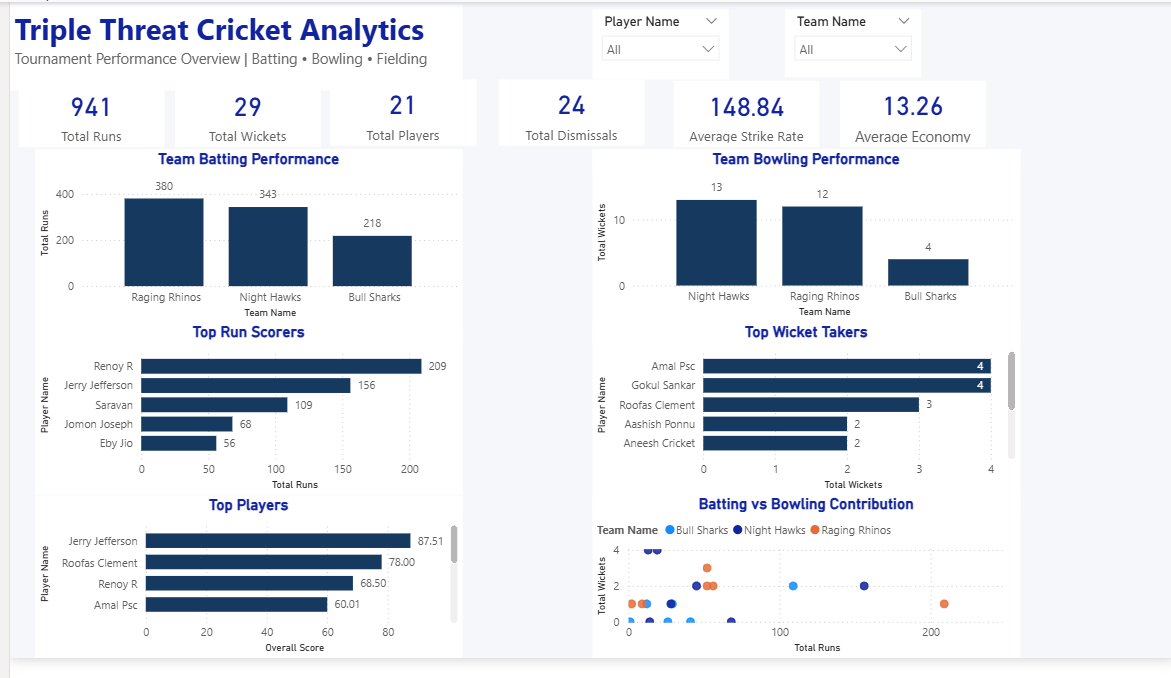

Layout of this report page (visuals, bound fields, positions):
{"tool":"powerbi","page":{"name":"Page 1","canvas":[1280,720],"ordinal":0},"visuals":[{"type":"card","fields":{"Values":["player_performance.Total Runs"]},"box":[9.6,86.4,160,72.7],"z":0},{"type":"card","fields":{"Values":["player_performance.Total Wickets"]},"box":[181.1,86.4,160,72.7],"z":1000},{"type":"card","fields":{"Values":["player_performance.Total Players"]},"box":[351.3,85.1,160.5,72.7],"z":2000},{"type":"card","fields":{"Values":["player_performance.Total Dismissals"]},"box":[536.5,85.1,160,72.7],"z":3000},{"type":"card","fields":{"Values":["player_performance.Average Strike Rate"]},"box":[728.6,86.4,160,72.7],"z":4000},{"type":"card","fields":{"Values":["player_performance.Average Economy"]},"box":[911.2,86.4,160,72.7],"z":5000},{"type":"clusteredColumnChart","title":"Team Batting Performance","fields":{"Category":["player_performance.Team Name"],"Y":["player_performance.Total Runs"]},"box":[27.4,161.9,469.3,190],"z":6000},{"type":"clusteredColumnChart","title":"Team Bowling Performance","fields":{"Category":["player_performance.Team Name"],"Y":["player_performance.Total Wickets"]},"box":[639.5,161.9,469.3,189.4],"z":7000},{"type":"clusteredBarChart","title":"Top Run Scorers","fields":{"Category":["player_performance.Player Name"],"Y":["player_performance.Total Runs"]},"box":[27.4,351.3,469.3,189.4],"z":8000},{"type":"clusteredBarChart","title":"Top Wicket Takers","fields":{"Category":["player_performance.Player Name"],"Y":["player_performance.Total Wickets"]},"box":[639.5,351.3,469.3,189.4],"z":9000},{"type":"clusteredBarChart","title":"Top Players","fields":{"Category":["player_performance.Player Name"],"Y":["Sum(player_performance.Overall_Score)"]},"box":[27.4,542,469.3,178.4],"z":10000},{"type":"slicer","fields":{"Values":["player_performance.Team Name"]},"box":[850.8,8.2,149.6,74.1],"z":11000},{"type":"slicer","fields":{"Values":["player_performance.Player Name"]},"box":[639.5,8.2,149.6,76.8],"z":12000},{"type":"scatterChart","title":"Batting vs Bowling Contribution","fields":{"X":["player_performance.Total Runs"],"Y":["player_performance.Total Wickets"],"Series":["player_performance.Team Name"],"Category":["player_performance.Player Name"]},"box":[639.5,540.7,469.3,179.8],"z":13000},{"type":"textbox","box":[0,2.7,496.7,94.7],"z":14000}]}

Visuals, with their boxes in screenshot pixels (x1, y1, x2, y2), scaled from the page's 1280x720 canvas onto the 1171x678 screenshot:
card - player_performance.Total Runs: bbox=[9, 81, 155, 150]
card - player_performance.Total Wickets: bbox=[166, 81, 312, 150]
card - player_performance.Total Players: bbox=[321, 80, 468, 149]
card - player_performance.Total Dismissals: bbox=[491, 80, 637, 149]
card - player_performance.Average Strike Rate: bbox=[667, 81, 813, 150]
card - player_performance.Average Economy: bbox=[834, 81, 980, 150]
"Team Batting Performance" clusteredColumnChart: bbox=[25, 152, 454, 331]
"Team Bowling Performance" clusteredColumnChart: bbox=[585, 152, 1014, 331]
"Top Run Scorers" clusteredBarChart: bbox=[25, 331, 454, 509]
"Top Wicket Takers" clusteredBarChart: bbox=[585, 331, 1014, 509]
"Top Players" clusteredBarChart: bbox=[25, 510, 454, 677]
slicer - player_performance.Team Name: bbox=[778, 8, 915, 77]
slicer - player_performance.Player Name: bbox=[585, 8, 722, 80]
"Batting vs Bowling Contribution" scatterChart: bbox=[585, 509, 1014, 677]
textbox: bbox=[0, 3, 454, 92]
